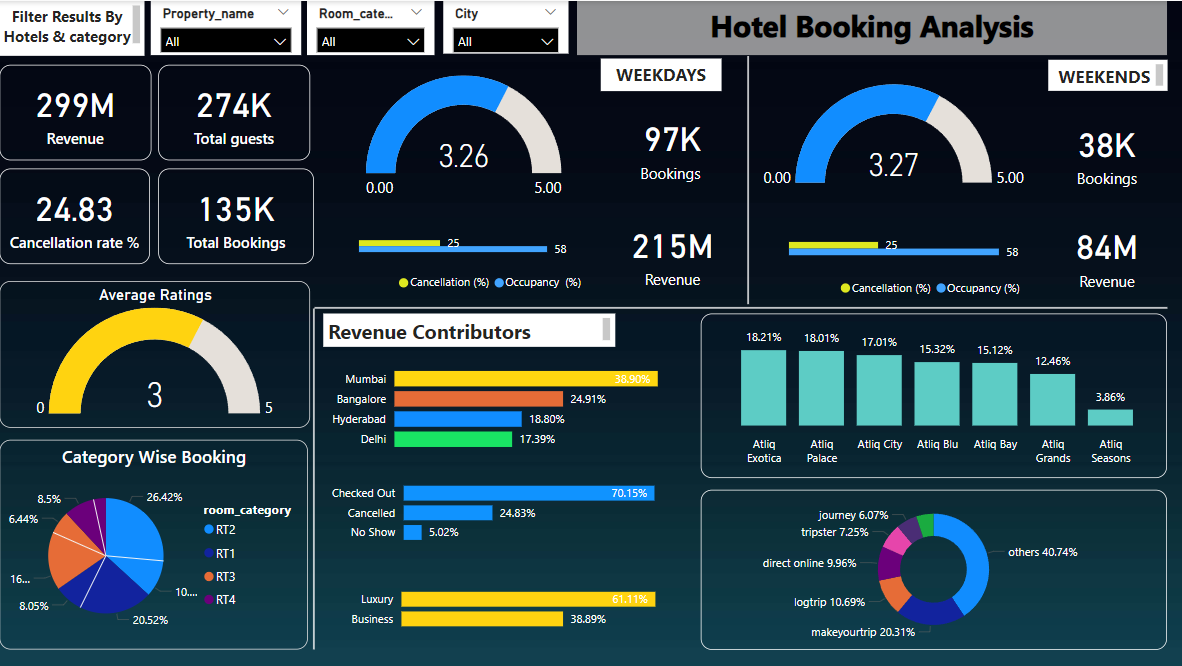

This screenshot's page, from the dashboard's own definition file:
{"tool":"powerbi","page":{"name":"Dashboard 1","canvas":[1280,720],"ordinal":0},"visuals":[{"type":"slicer","fields":{"Values":["dim_hotels.property_name"]},"box":[166.3,0,162.2,58],"z":0,"group":"g1"},{"type":"card","fields":{"Values":["Sum(fact_bookings.Revenue)"]},"box":[2.9,68.2,164,103.1],"z":0},{"type":"textbox","box":[0,0,159.4,59.4],"z":1000,"group":"g1"},{"type":"clusteredBarChart","fields":{"Category":["dim_hotels.city"],"Y":["Sum(fact_bookings.Revenue)"]},"box":[352.3,377.6,407.8,118.2],"z":1000},{"type":"slicer","fields":{"Values":["fact_bookings.room_category"]},"box":[335,0,137.2,58],"z":2000,"group":"g1"},{"type":"card","fields":{"Values":["Sum(fact_bookings.no_guests)"]},"box":[174.2,68.2,164,103.1],"z":2000},{"type":"gauge","fields":{"Y":["fact_bookings.Average Rating Weekends"]},"box":[817.1,75.2,300.8,140.3],"z":2000,"group":"g3"},{"type":"card","fields":{"Values":["fact_bookings.Cancellation rate %"]},"box":[2.9,181.4,162.6,103.1],"z":3000},{"type":"card","fields":{"Values":["fact_bookings.Total Bookings"]},"box":[174.2,181.4,168.4,103.1],"z":4000},{"type":"clusteredBarChart","fields":{"Y":["fact_bookings.Cancellation Rate Weekends (%)","fact_bookings.Occupancy Rate Weekends (%)"]},"box":[849.5,227.6,322.4,99.8],"z":4000,"group":"g3"},{"type":"gauge","title":"Average Ratings","fields":{"Y":["Avg(fact_bookings.ratings_given)"]},"box":[2.9,301.9,335.3,158.2],"z":5000},{"type":"pieChart","title":"Category Wise Booking","fields":{"Y":["fact_bookings.Total Bookings Weekdays","fact_bookings.Total Bookings Weekends"],"Category":["fact_bookings.room_category"]},"box":[2.9,473.2,332.4,226.4],"z":6000},{"type":"group","id":"g1","title":"Group 5","box":[0,0,472.2,59.4],"z":7000},{"type":"card","fields":{"Values":["fact_bookings.Total Bookings Weekends"]},"box":[1132.8,112.6,129.8,99.2],"z":7000,"group":"g3"},{"type":"textbox","box":[626,0,636.8,58],"z":8000},{"type":"clusteredBarChart","fields":{"Y":["fact_bookings.Total Bookings"],"Category":["fact_bookings.booking_status"]},"box":[352.7,502.2,407.9,94.4],"z":9000},{"type":"card","fields":{"Values":["fact_bookings.Revenue Weekends"]},"box":[1132.8,219,129.8,107.6],"z":10000,"group":"g3"},{"type":"clusteredBarChart","fields":{"Y":["Sum(fact_bookings.Revenue)"],"Category":["dim_hotels.category"]},"box":[373.1,605.3,387.6,94.4],"z":10000},{"type":"textbox","box":[352.2,337.9,315,36.3],"z":11000},{"type":"textbox","box":[1134.1,62.7,129.1,33.8],"z":12000,"group":"g3"},{"type":"columnChart","fields":{"Category":["dim_hotels.property_name"],"Y":["Sum(fact_bookings.Revenue)"]},"box":[760.1,337.8,503.1,177.3],"z":12000},{"type":"donutChart","fields":{"Category":["fact_bookings.booking_platform"],"Y":["Sum(fact_bookings.Revenue)"]},"box":[760.1,527.2,503.1,172.5],"z":13000},{"type":"card","fields":{"Values":["fact_bookings.Total Bookings Weekdays"]},"box":[651.9,106.3,152.4,101],"z":14000,"group":"g2"},{"type":"shape","box":[342.6,325.7,920.5,12.1],"z":14000},{"type":"card","fields":{"Values":["fact_bookings.Revenue Weekdays"]},"box":[651.9,214.8,152.4,112.3],"z":15000,"group":"g2"},{"type":"shape","box":[330.6,331.8,22.9,368],"z":15000},{"type":"shape","box":[803.5,59.1,13.3,267.8],"z":16000},{"type":"textbox","box":[651.5,61.5,130.3,35],"z":16000,"group":"g2"},{"type":"group","id":"g2","title":"Group 1","box":[357.1,61.5,447.2,265.6],"z":17000},{"type":"gauge","fields":{"Y":["fact_bookings.Average Rating Weekdays"]},"box":[357.1,75.6,292.7,147],"z":17000,"group":"g2"},{"type":"group","id":"g3","title":"Group 2","box":[817.1,62.7,446.1,264.8],"z":18000},{"type":"slicer","fields":{"Values":["dim_hotels.city"]},"box":[481.6,0,134.9,56.7],"z":19000},{"type":"clusteredBarChart","fields":{"Y":["fact_bookings.Cancellation Rate Weekdays (%)","fact_bookings.Occupancy Rate Weekdays (%)"]},"box":[385.3,228.1,296.8,94.4],"z":26000,"group":"g2"}]}

Visuals, with their boxes in screenshot pixels (x1, y1, x2, y2), scaled from the page's 1280x720 canvas onto the 1182x666 screenshot:
slicer - dim_hotels.property_name: x1=154, y1=0, x2=303, y2=54
card - Sum(fact_bookings.Revenue): x1=3, y1=63, x2=154, y2=158
textbox: x1=0, y1=0, x2=147, y2=55
clusteredBarChart - dim_hotels.city x Sum(fact_bookings.Revenue): x1=325, y1=349, x2=702, y2=459
slicer - fact_bookings.room_category: x1=309, y1=0, x2=436, y2=54
card - Sum(fact_bookings.no_guests): x1=161, y1=63, x2=312, y2=158
gauge - fact_bookings.Average Rating Weekends: x1=755, y1=70, x2=1032, y2=199
card - fact_bookings.Cancellation rate %: x1=3, y1=168, x2=153, y2=263
card - fact_bookings.Total Bookings: x1=161, y1=168, x2=316, y2=263
clusteredBarChart - fact_bookings.Cancellation Rate Weekends (%) x fact_bookings.Occupancy Rate Weekends (%): x1=784, y1=211, x2=1082, y2=303
"Average Ratings" gauge: x1=3, y1=279, x2=312, y2=426
"Category Wise Booking" pieChart: x1=3, y1=438, x2=310, y2=647
"Group 5" group: x1=0, y1=0, x2=436, y2=55
card - fact_bookings.Total Bookings Weekends: x1=1046, y1=104, x2=1166, y2=196
textbox: x1=578, y1=0, x2=1166, y2=54
clusteredBarChart - fact_bookings.Total Bookings x fact_bookings.booking_status: x1=326, y1=465, x2=702, y2=552
card - fact_bookings.Revenue Weekends: x1=1046, y1=203, x2=1166, y2=302
clusteredBarChart - Sum(fact_bookings.Revenue) x dim_hotels.category: x1=345, y1=560, x2=702, y2=647
textbox: x1=325, y1=313, x2=616, y2=346
textbox: x1=1047, y1=58, x2=1166, y2=89
columnChart - dim_hotels.property_name x Sum(fact_bookings.Revenue): x1=702, y1=312, x2=1166, y2=476
donutChart - fact_bookings.booking_platform x Sum(fact_bookings.Revenue): x1=702, y1=488, x2=1166, y2=647
card - fact_bookings.Total Bookings Weekdays: x1=602, y1=98, x2=743, y2=192
shape: x1=316, y1=301, x2=1166, y2=312
card - fact_bookings.Revenue Weekdays: x1=602, y1=199, x2=743, y2=303
shape: x1=305, y1=307, x2=326, y2=647
shape: x1=742, y1=55, x2=754, y2=302
textbox: x1=602, y1=57, x2=722, y2=89
"Group 1" group: x1=330, y1=57, x2=743, y2=303
gauge - fact_bookings.Average Rating Weekdays: x1=330, y1=70, x2=600, y2=206
"Group 2" group: x1=755, y1=58, x2=1166, y2=303
slicer - dim_hotels.city: x1=445, y1=0, x2=569, y2=52
clusteredBarChart - fact_bookings.Cancellation Rate Weekdays (%) x fact_bookings.Occupancy Rate Weekdays (%): x1=356, y1=211, x2=630, y2=298
